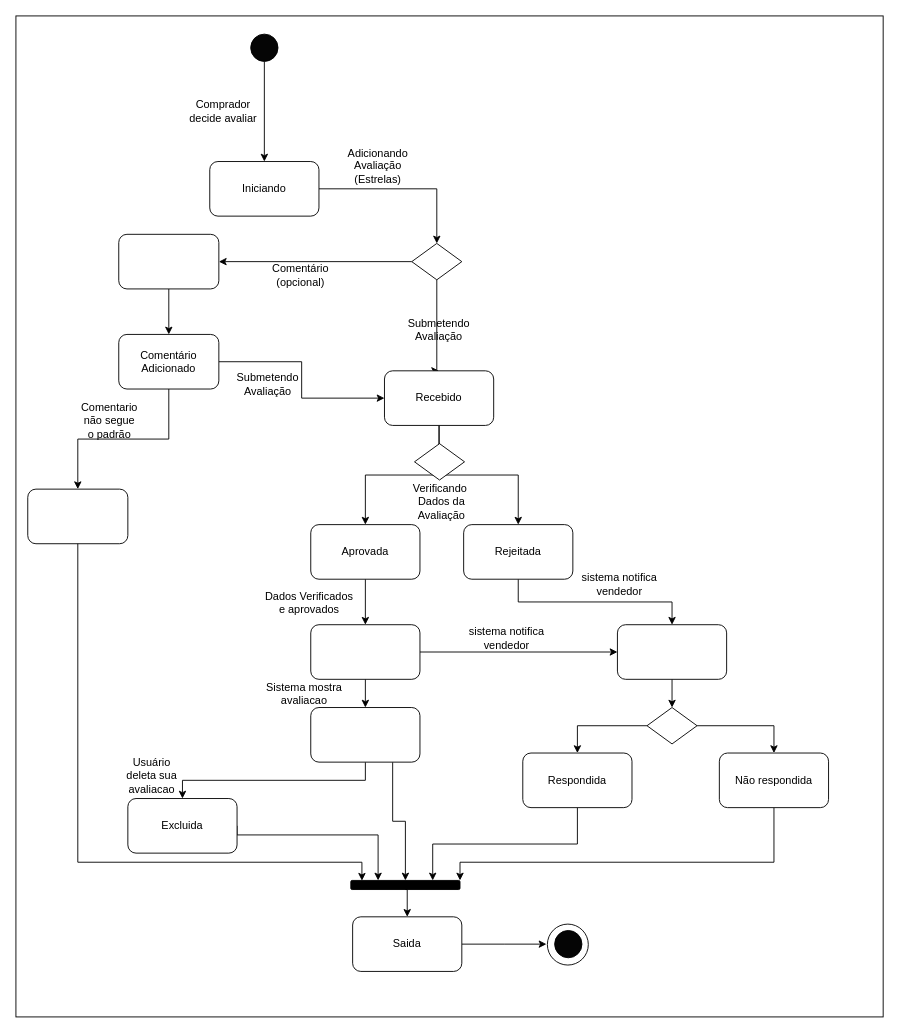
Some shapes in this 899 by 1033 pixel diagram are drawn without their labels. The shapes that lost their labels are listed below. From the top down, each one's centre as x and y in pixels, then its label:
At point 168,261: "Aguardando".
At point 77,516: "Rejeitado".
At point 365,651: "Concluida".
At point 672,651: "Notifica vendedor".
At point 365,734: "Exibida".
